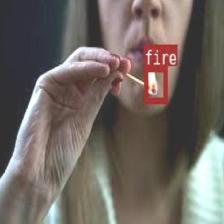fire: (143, 65, 166, 102)
